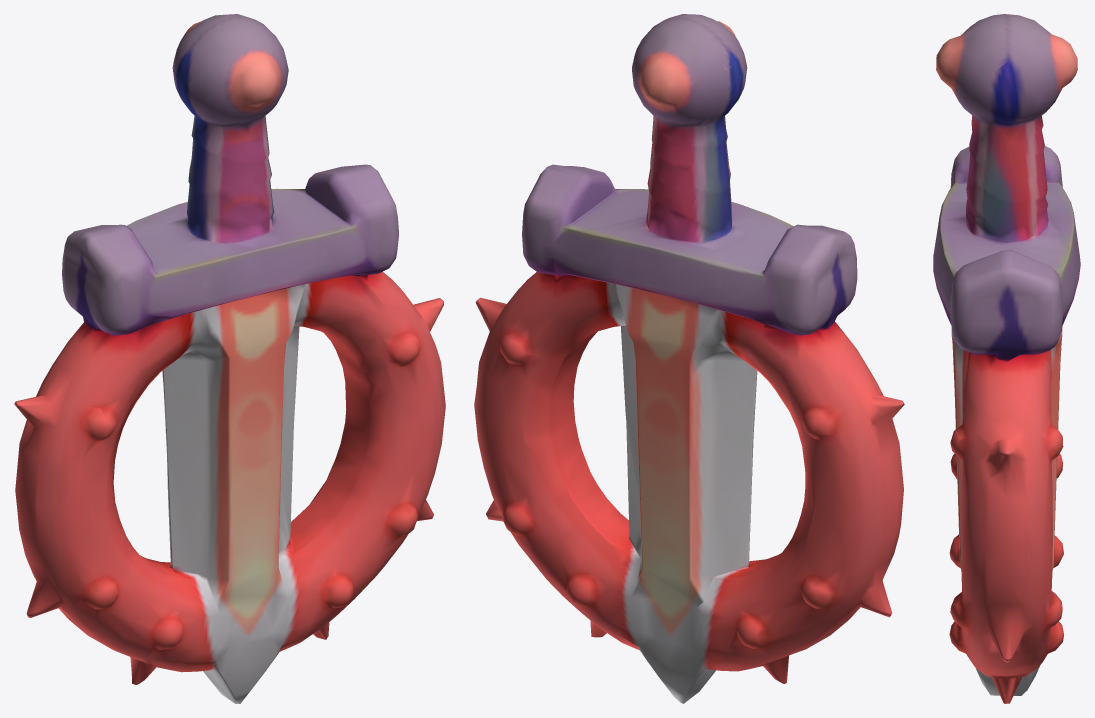
3 views of the same model, side by side, from view 1: azimuth 30°, elevation 25°; view 2: azimuth 150°, elevation 25°; view 3: azimuth 270°, elevation 25° (orthographic).
Visible parts, largest first — view 1: attacker; view 2: attacker; view 3: attacker.
Boxes of the visible parts, box(x1,y1,x2,y2) form: attacker: box(14, 14, 445, 703); attacker: box(474, 14, 904, 703); attacker: box(933, 14, 1080, 703).
Bounding box in the file's own units: 0.369 × 0.56 × 0.1106.
1 material, 1 textured.
